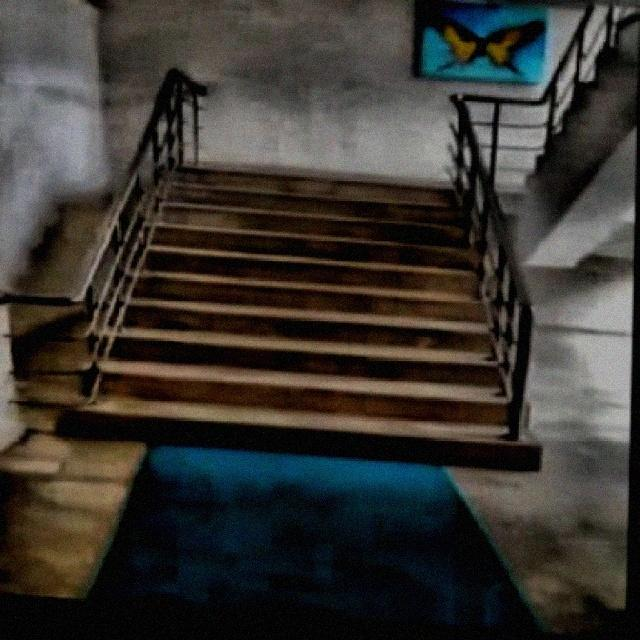stair: (37, 162, 530, 476)
